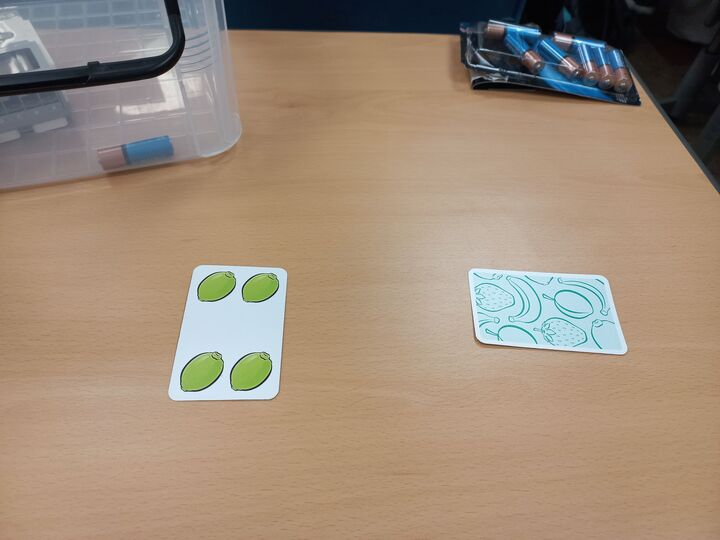lime4: (165, 263, 290, 401)
